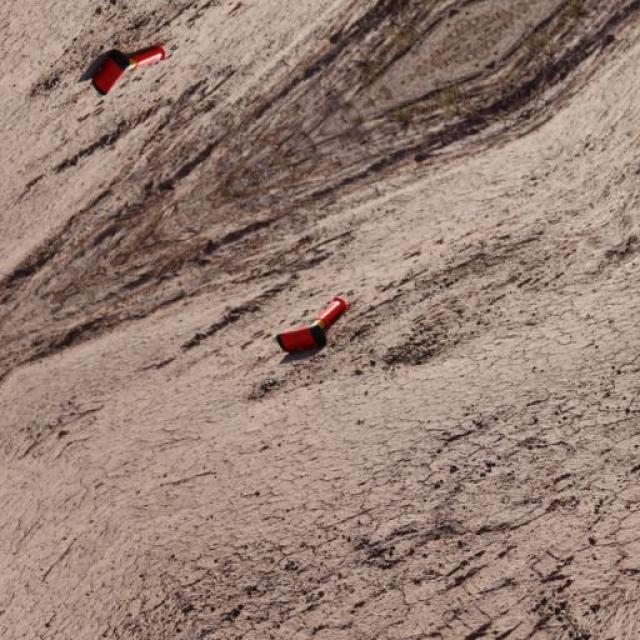mallet: (274, 294, 348, 354), (86, 43, 166, 95)
